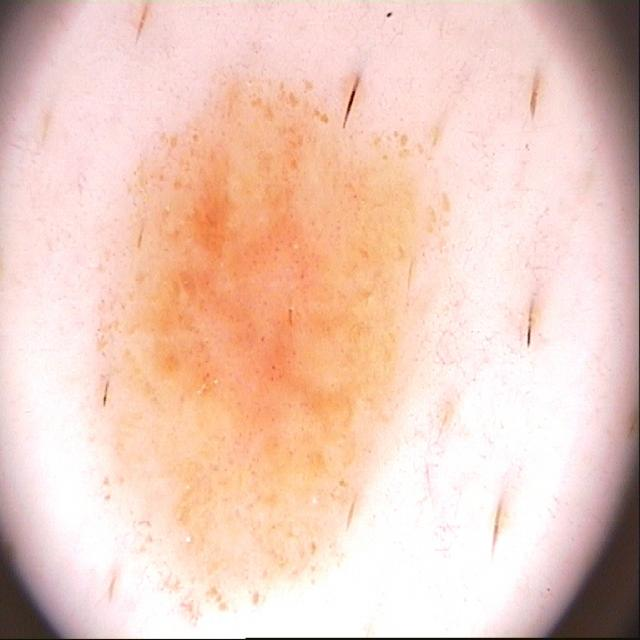Skin-Cancer Nevus: (77, 0, 606, 637)
